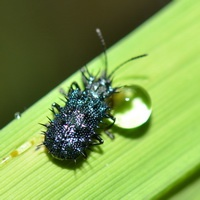insect: (40, 28, 151, 162)
